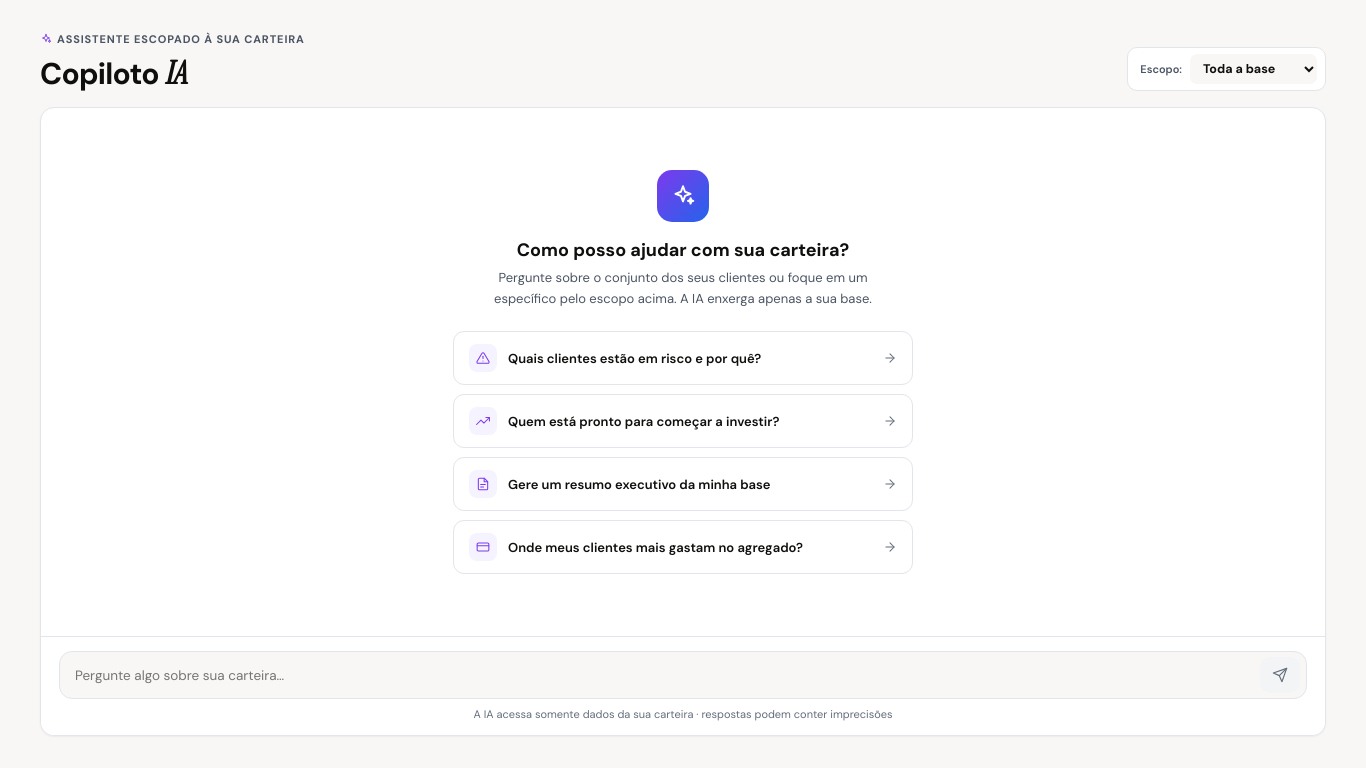
Test: ConsultantCopilotoPage › envia uma mensagem e renderiza a resposta (markdown em negrito + chip do cliente)
Type "quem está em risco?" into the field named "Mensagem para o Copiloto".
click(662, 675); type("quem está em risco?")  # box x1=75 y1=658 x2=1250 y2=692
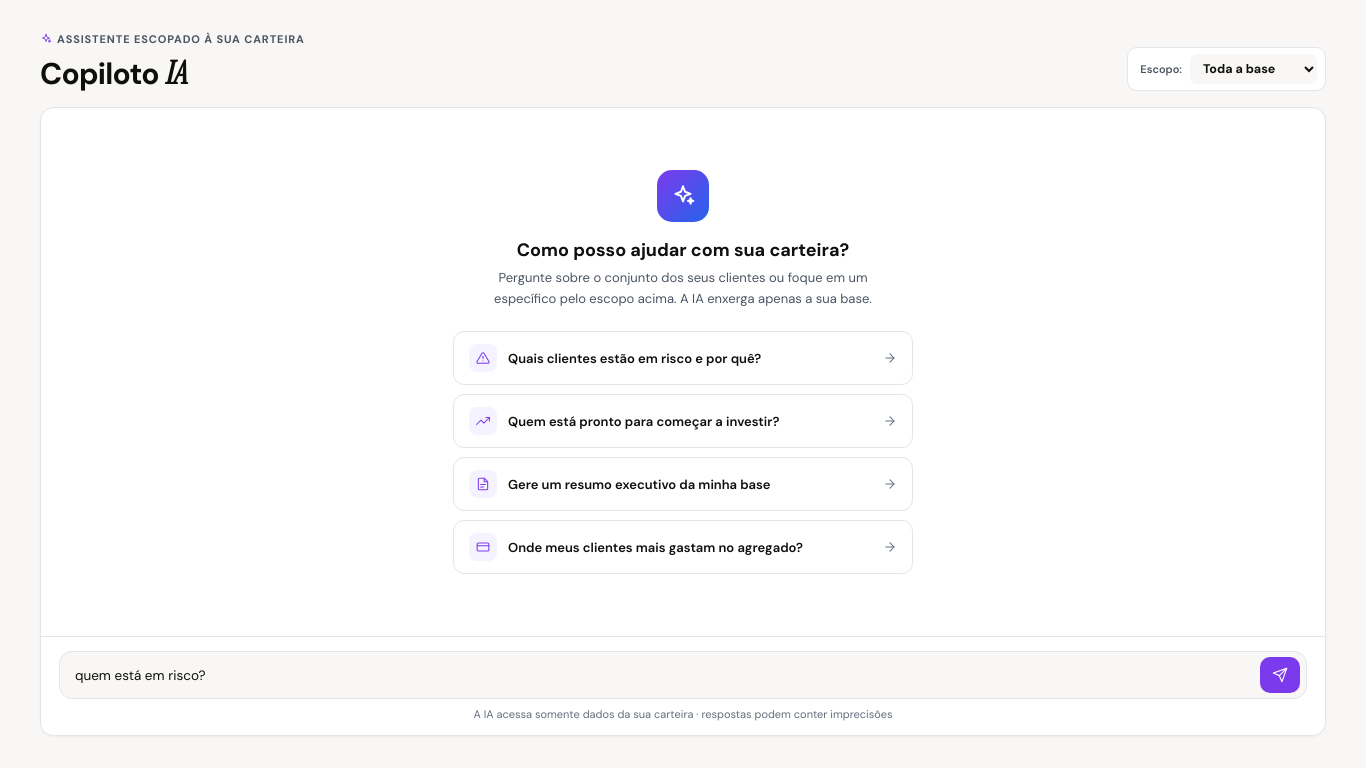
Click the button named "Enviar mensagem".
click(1280, 675)  # box x1=1260 y1=657 x2=1300 y2=693
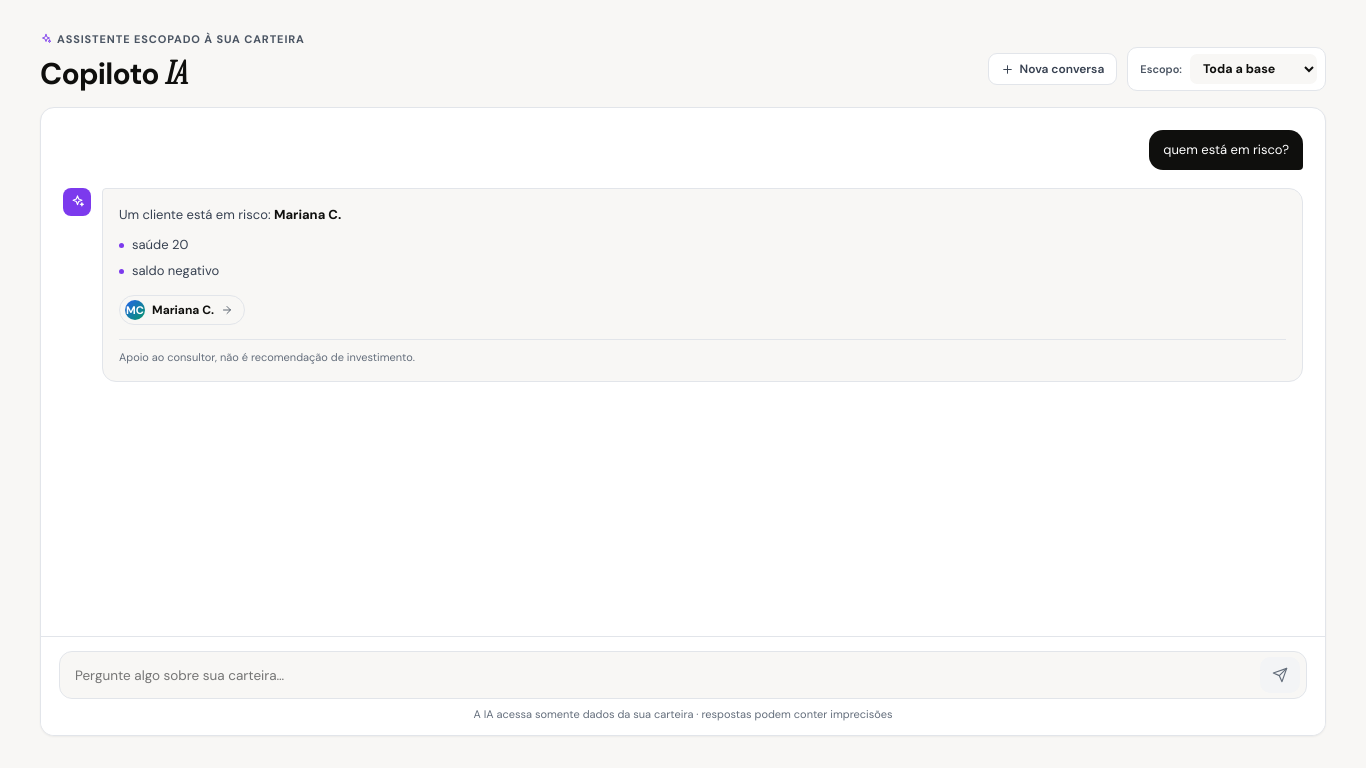
Now the text "quem está em risco?" is shown, box x1=1149 y1=130 x2=1303 y2=170
Now the text "Um cliente está em risco: Mariana C." is shown, box x1=119 y1=206 x2=341 y2=223
Now the text "Apoio ao consultor, não é recomendação de investimento." is shown, box x1=119 y1=350 x2=415 y2=364
